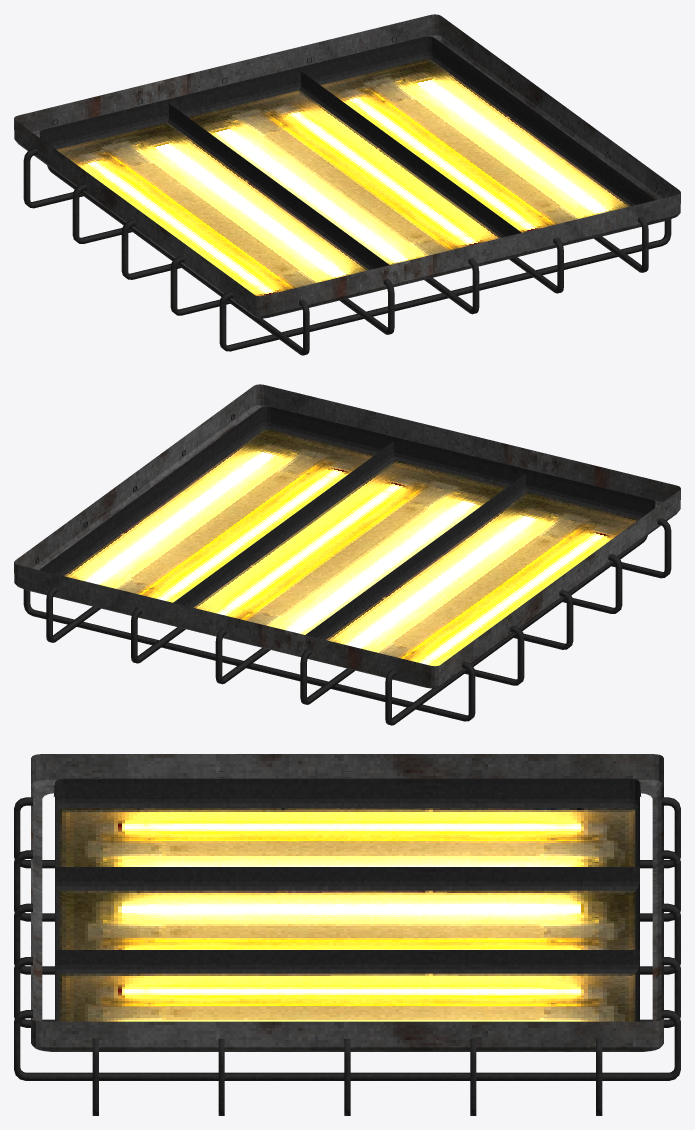
Rendered from ceiling_lamp_1.glb.
3 views of the same model, one above another, from view 1: azimuth 30°, elevation 25°; view 2: azimuth 150°, elevation 25°; view 3: azimuth 270°, elevation 25° (orthographic). The views are drawn at different scales.
Parts seen in each view (by area): view 1: ceiling_lamp_1, ceiling_lamp_1_cover; view 2: ceiling_lamp_1, ceiling_lamp_1_cover; view 3: ceiling_lamp_1, ceiling_lamp_1_cover.
Boxes of the visible parts, x1,y1,x2,y2 form: ceiling_lamp_1: (14, 14, 680, 318); ceiling_lamp_1_cover: (23, 36, 671, 355); ceiling_lamp_1: (14, 384, 680, 688); ceiling_lamp_1_cover: (23, 406, 671, 725); ceiling_lamp_1: (31, 754, 663, 1051); ceiling_lamp_1_cover: (14, 771, 680, 1115).
Size of the model in its own units: 1.06 by 0.16 by 1.06.
Materials: 3 (3 with a texture image).
